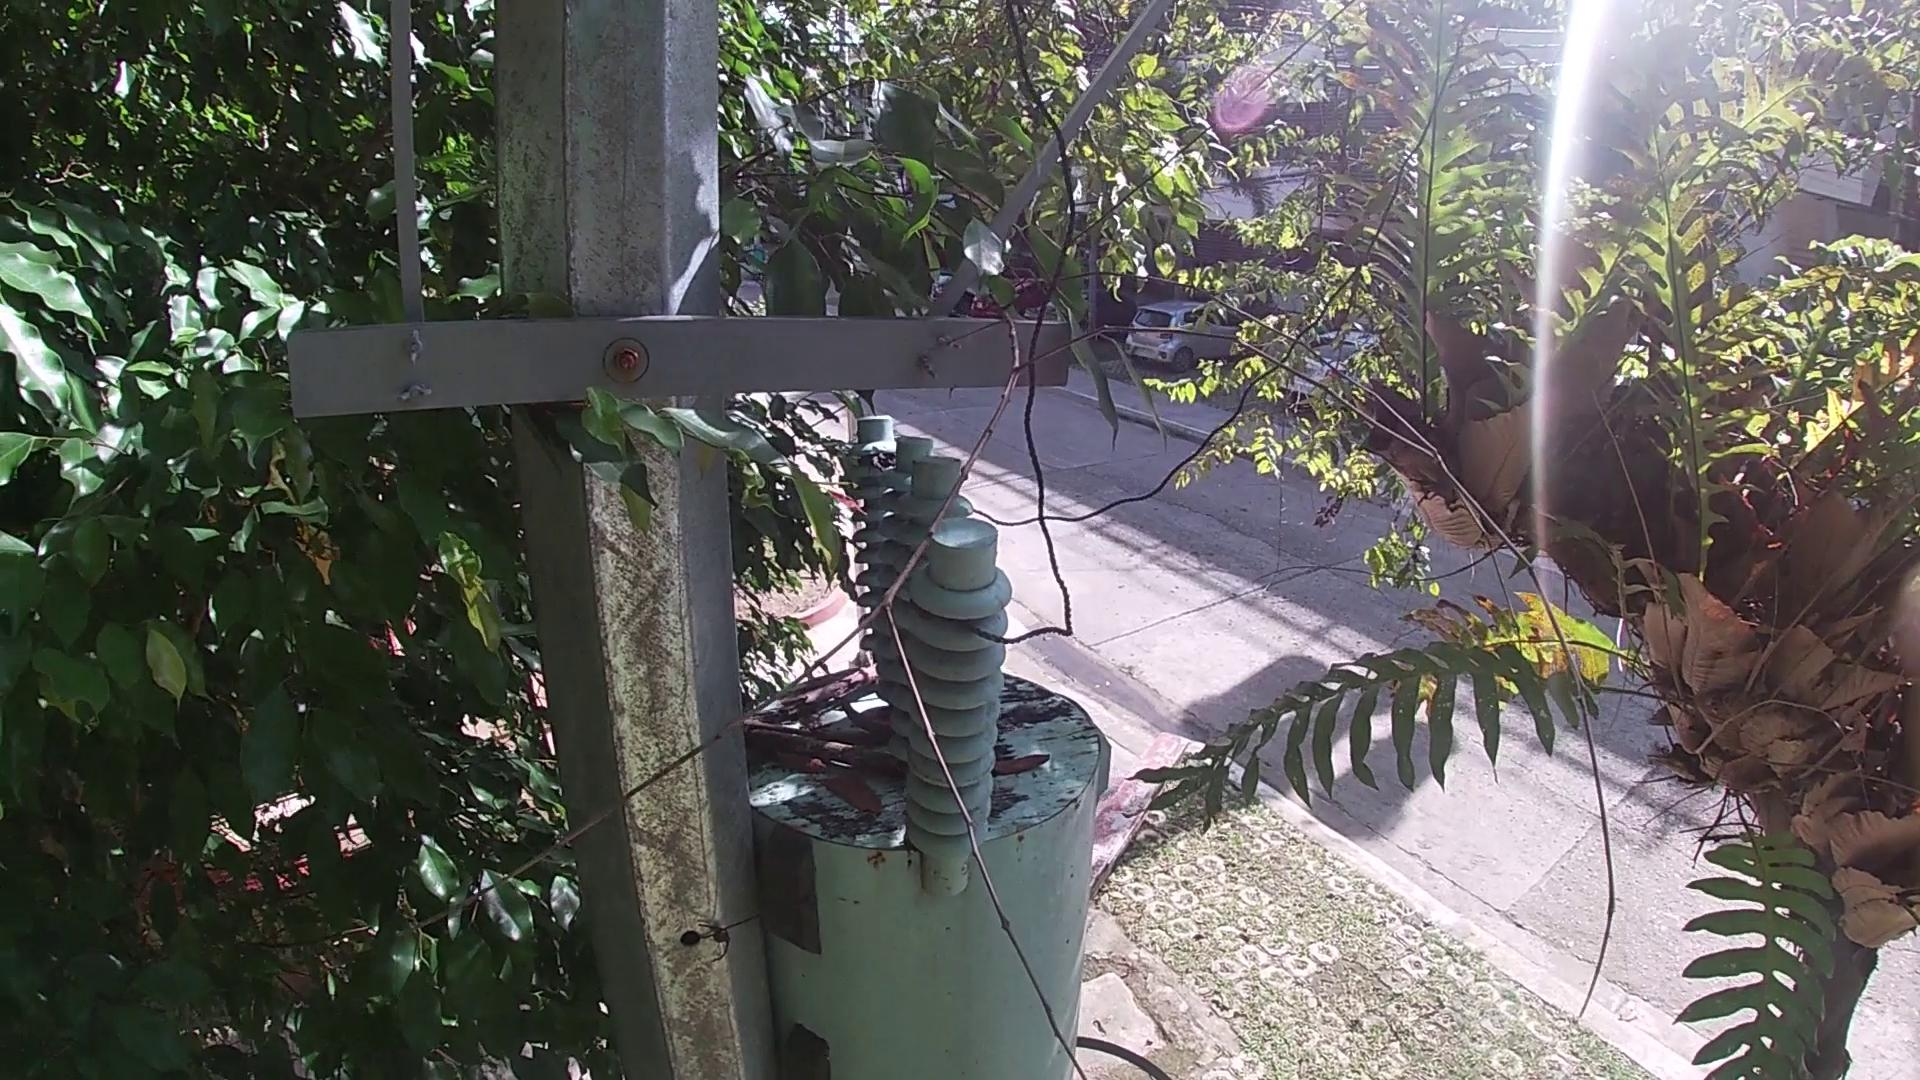leaf: (818, 767, 885, 820), (992, 752, 1054, 781), (773, 752, 829, 775)
tree branch: (407, 262, 1626, 1077), (744, 725, 903, 781), (774, 661, 881, 731)
